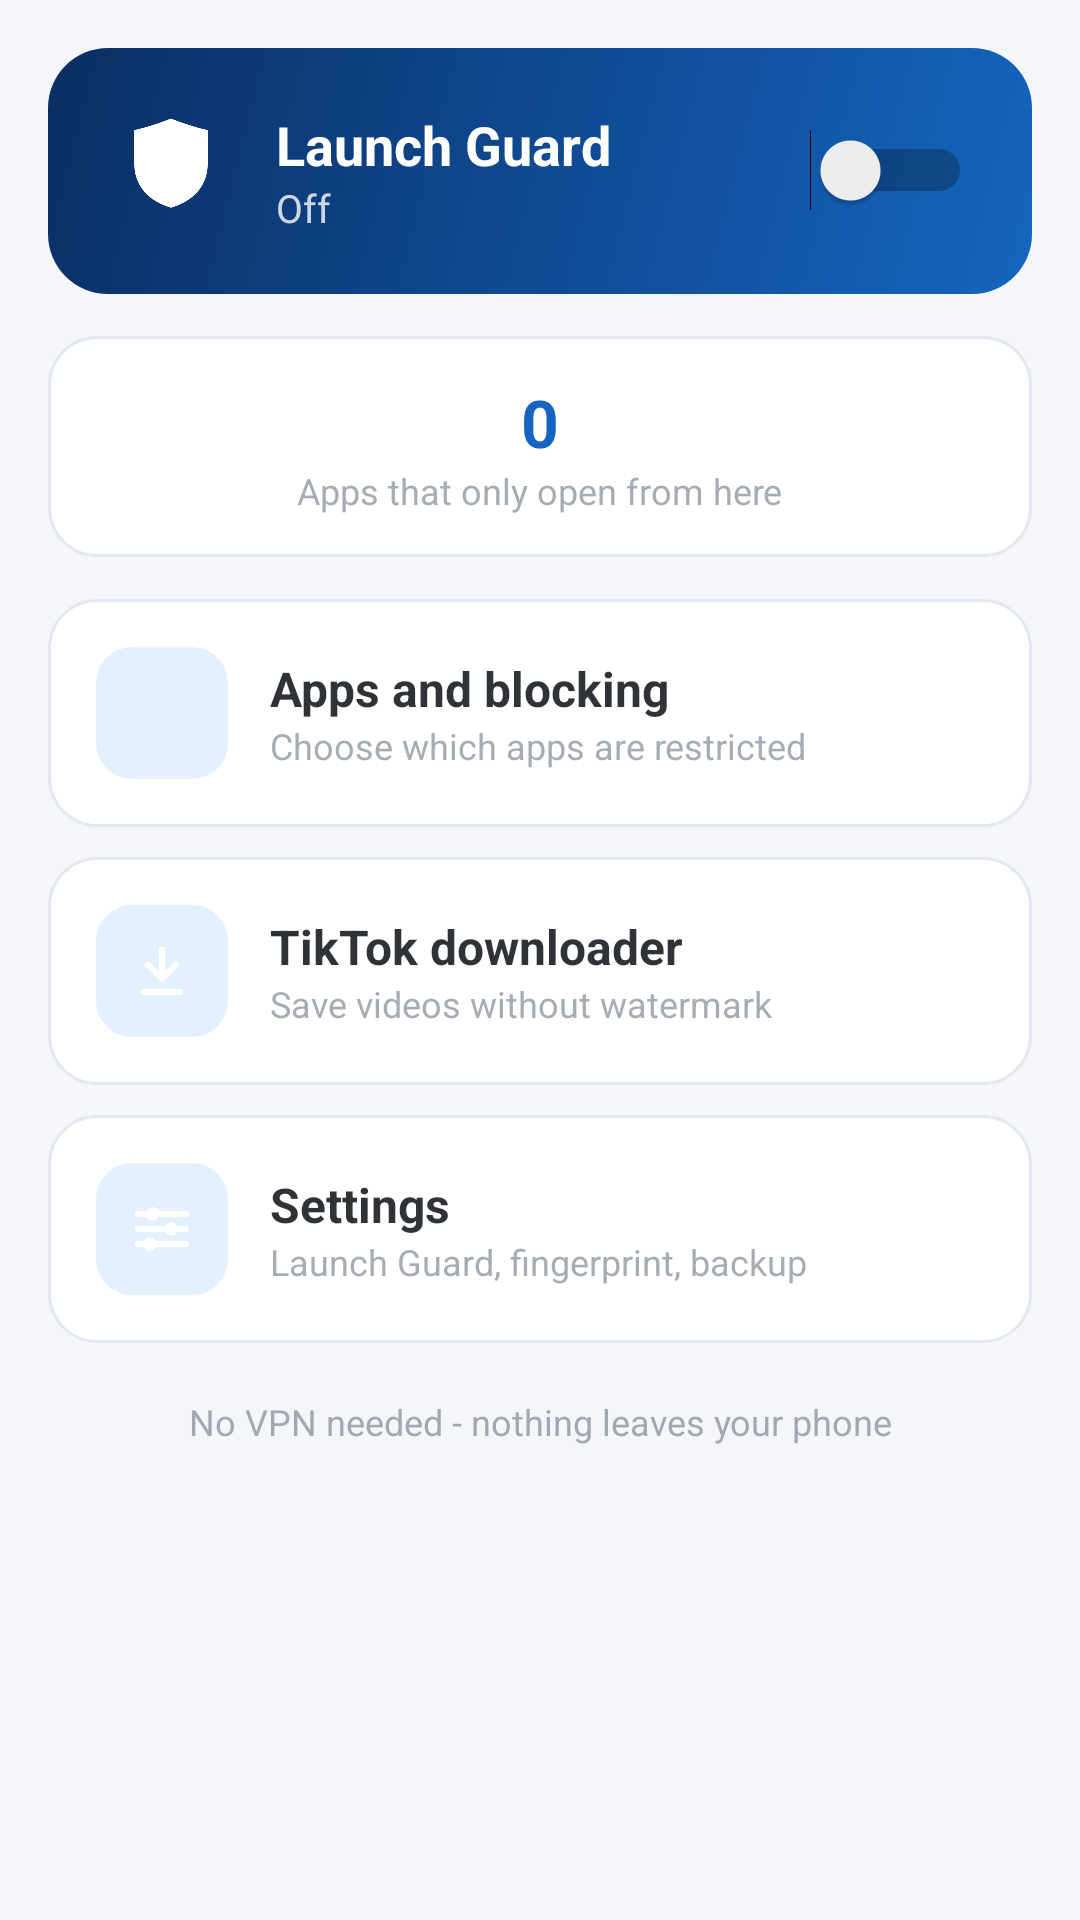

Named icons in this screenshot (1080px x 1920px) and their centers, (x=x, y=y):
Shield: (x=171, y=163)
